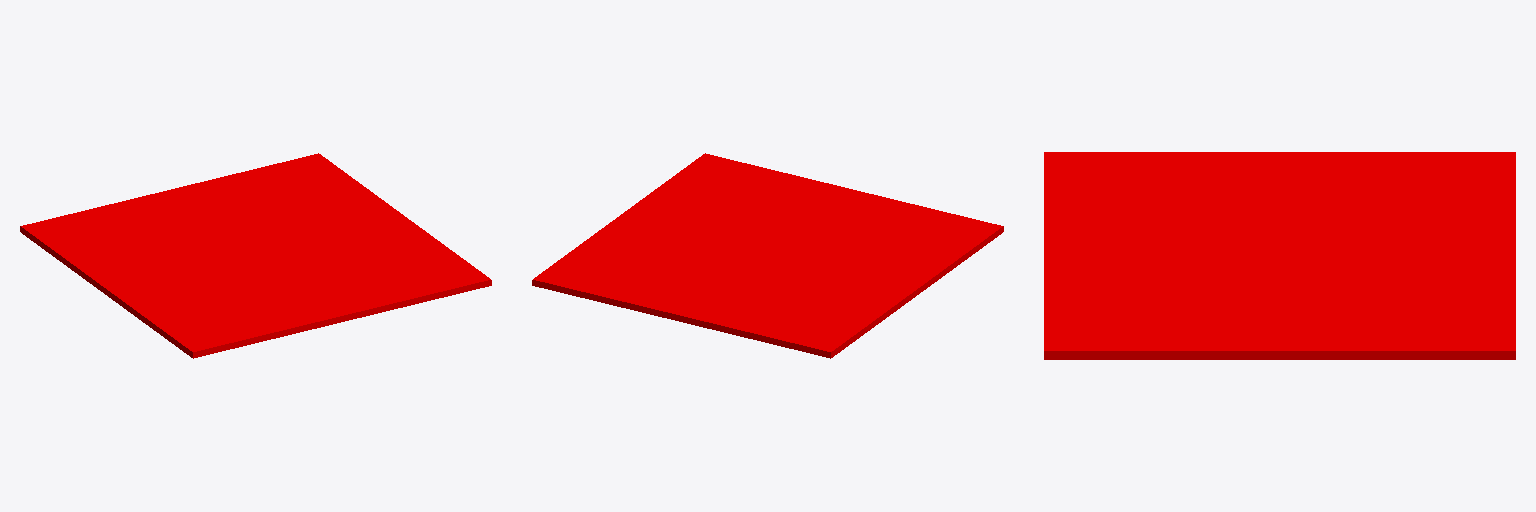
The robot description file, URDF, robot "square":
<?xml version="1.0"?>
<!-- created with Phobos 1.0.1 "Capricious Choutengan" -->
  <robot name="square">

    <link name="Untitled">
      <inertial>
        <origin xyz="0 0 0" rpy="0 0 0"/>
        <mass value="0.001"/>
        <inertia ixx="0.001" ixy="0" ixz="0" iyy="0.001" iyz="0" izz="0.001"/>
      </inertial>
      <visual name="Cube">
        <origin xyz="0 0 0" rpy="0 0 0"/>
        <geometry>
          <box size="0.50 0.50 0.01"/>
        </geometry>
        <material name="Material.002"/>
      </visual>
    </link>

    <material name="Material.002">
      <color rgba="1 0 0 1.0"/>
    </material>

  </robot>

--- What the picture shows (computed from the rendered views, not written in the file) ---
The picture shows the robot from 3 angles, left to right: view 1: azimuth 30°, elevation 25°; view 2: azimuth 150°, elevation 25°; view 3: azimuth 270°, elevation 25°; orthographic projection.
Robot: square — 1 links, 0 joints (none); root link Untitled; default pose: all joints at 0.
Links seen in each view (by area): view 1: Untitled; view 2: Untitled; view 3: Untitled.
Link boxes in pixels (x1,y1,x2,y2): Untitled: (20, 153, 491, 358); Untitled: (532, 153, 1003, 358); Untitled: (1044, 152, 1515, 359).
Size in the robot's own frame: 0.5 by 0.5 by 0.01 metres.
Geometry: primitives only (box / cylinder / sphere), no mesh files.